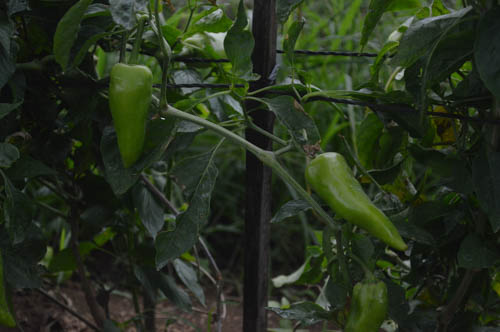ChiliPepper: (310, 153, 409, 252), (107, 63, 152, 168), (349, 283, 386, 328)
